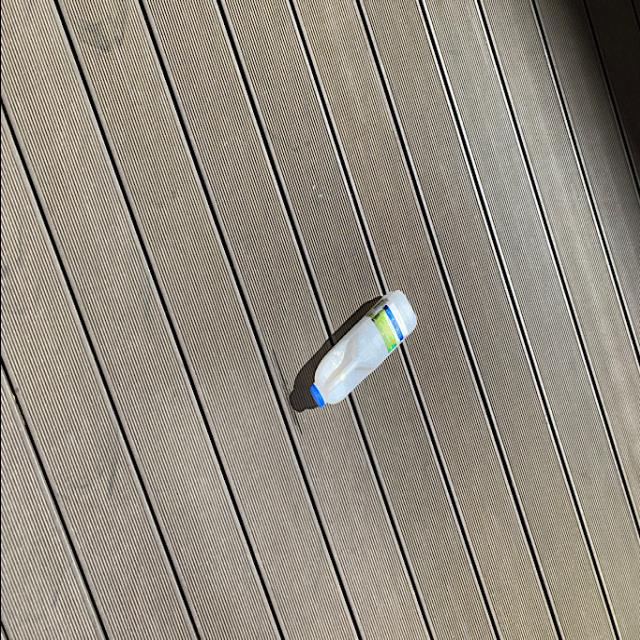litter: (304, 285, 424, 410)
